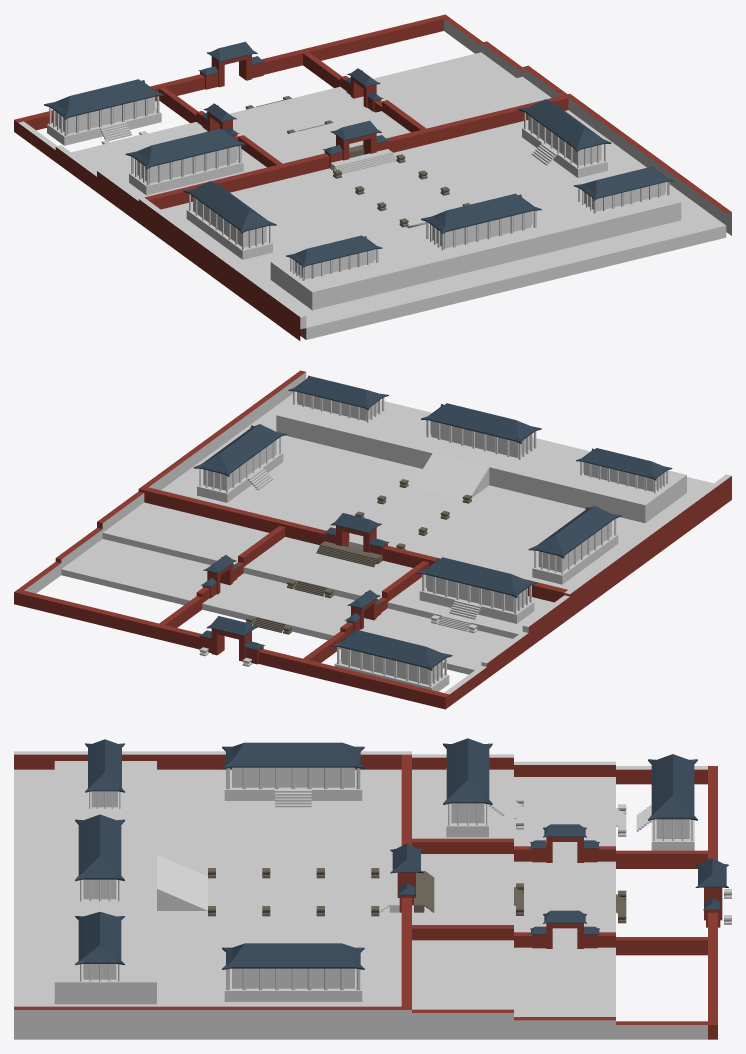
Rendered from jangan-palace.fbx.
3 renders of one model, top to bottom at view 1: azimuth 30°, elevation 25°; view 2: azimuth 150°, elevation 25°; view 3: azimuth 270°, elevation 25°, orthographic. The views are drawn at different scales.
Parts seen in each view (by area): view 1: Group326, Group325, Group31, Group333, Group324, Group97, Group134, Group171, Group8, Group208, Group15, Group238 (+16 smaller); view 2: Group326, Group325, Group333, Group31, Group324, Group97, Group8, Group171, Group134, Group15, Group208, Group238 (+16 smaller); view 3: Group326, Group324, Group325, Group8, Group15, Group208, Group171, Group333, Group31, Group170, Group207, Group169 (+17 smaller).
Part boxes in pixels (x1=…): Group326: x1=71, y1=52, x2=726, y2=339; Group325: x1=18, y1=121, x2=306, y2=340; Group31: x1=144, y1=95, x2=568, y2=209; Group333: x1=14, y1=14, x2=449, y2=134; Group324: x1=444, y1=17, x2=731, y2=235; Group97: x1=129, y1=146, x2=243, y2=195; Group134: x1=47, y1=97, x2=161, y2=145; Group171: x1=186, y1=196, x2=272, y2=259; Group8: x1=303, y1=52, x2=425, y2=132; Group208: x1=522, y1=115, x2=607, y2=177; Group15: x1=159, y1=87, x2=282, y2=167; Group238: x1=428, y1=211, x2=533, y2=249; Group326: x1=61, y1=391, x2=713, y2=674; Group325: x1=444, y1=474, x2=731, y2=705; Group333: x1=14, y1=589, x2=449, y2=709; Group31: x1=144, y1=487, x2=567, y2=602; Group324: x1=18, y1=370, x2=306, y2=593; Group97: x1=419, y1=575, x2=534, y2=623; Group8: x1=159, y1=526, x2=285, y2=627; Group171: x1=532, y1=521, x2=618, y2=584; Group134: x1=334, y1=648, x2=449, y2=691; Group15: x1=303, y1=561, x2=428, y2=662; Group208: x1=197, y1=440, x2=283, y2=502; Group238: x1=429, y1=421, x2=529, y2=457; Group326: x1=14, y1=761, x2=615, y2=1016; Group324: x1=14, y1=1006, x2=707, y2=1039; Group325: x1=14, y1=751, x2=707, y2=784; Group8: x1=412, y1=923, x2=707, y2=955; Group15: x1=412, y1=837, x2=707, y2=868; Group208: x1=224, y1=968, x2=362, y2=1001; Group171: x1=224, y1=767, x2=362, y2=800; Group333: x1=704, y1=766, x2=722, y2=1039; Group31: x1=397, y1=754, x2=415, y2=1006; Group170: x1=222, y1=742, x2=293, y2=769; Group207: x1=222, y1=943, x2=293, y2=969; Group169: x1=293, y1=742, x2=364, y2=768.
Bounding box in the file's own units: 150 × 20.35 × 176.
